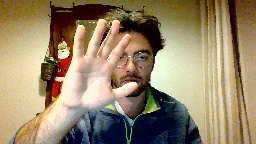Mano_aperta: (57, 14, 139, 113)
